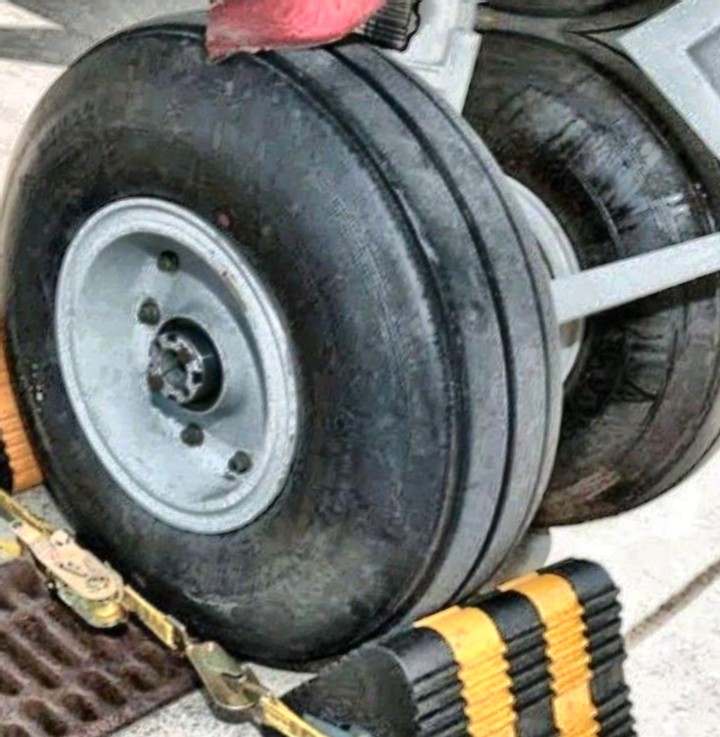chock: (234, 511, 670, 737), (0, 273, 115, 532)
wheel: (0, 0, 604, 689), (404, 24, 720, 546)
